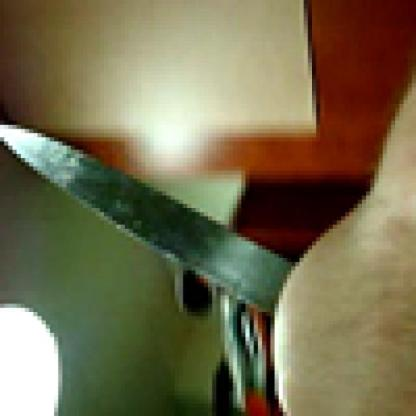Knife: (0, 120, 291, 312)
